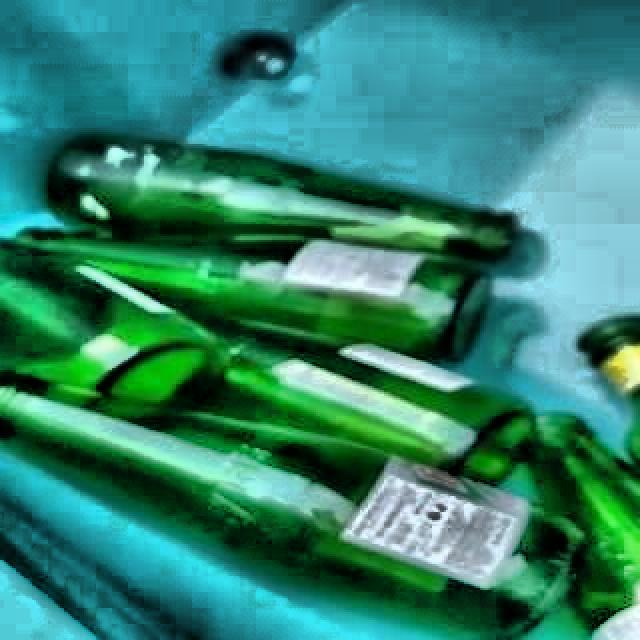glass: (0, 137, 640, 640)
